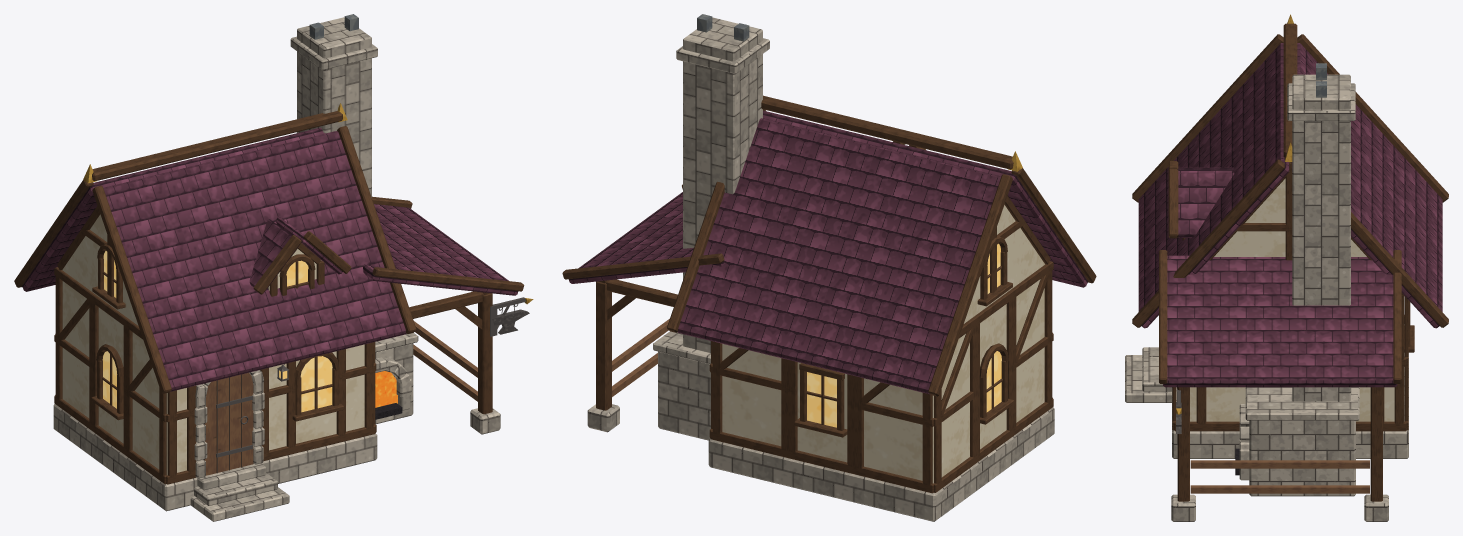
Rendered from blacksmith_exterior.glb.
3 renders of one model, left to right at view 1: azimuth 30°, elevation 25°; view 2: azimuth 150°, elevation 25°; view 3: azimuth 270°, elevation 25°, orthographic. The views are drawn at different scales.
Parts seen in each view (by area): view 1: blacksmith_exterior_roof, blacksmith_exterior_walls, blacksmith_exterior_work_porch, blacksmith_exterior_door_leaf; view 2: blacksmith_exterior_roof, blacksmith_exterior_walls, blacksmith_exterior_work_porch; view 3: blacksmith_exterior_roof, blacksmith_exterior_walls, blacksmith_exterior_work_porch.
Boxes of the visible parts, bbox=[...] form: blacksmith_exterior_roof: bbox=[14, 103, 524, 393]; blacksmith_exterior_walls: bbox=[53, 14, 418, 521]; blacksmith_exterior_work_porch: bbox=[409, 291, 500, 434]; blacksmith_exterior_door_leaf: bbox=[204, 372, 253, 475]; blacksmith_exterior_roof: bbox=[562, 95, 1096, 396]; blacksmith_exterior_walls: bbox=[653, 14, 1054, 521]; blacksmith_exterior_work_porch: bbox=[587, 279, 677, 432]; blacksmith_exterior_roof: bbox=[1132, 14, 1448, 387]; blacksmith_exterior_walls: bbox=[1125, 63, 1414, 496]; blacksmith_exterior_work_porch: bbox=[1171, 387, 1388, 521].
Size of what is drawn, in the model's own units: 6.94 by 6.39 by 4.7.
Materials: 13 (13 with a texture image).
